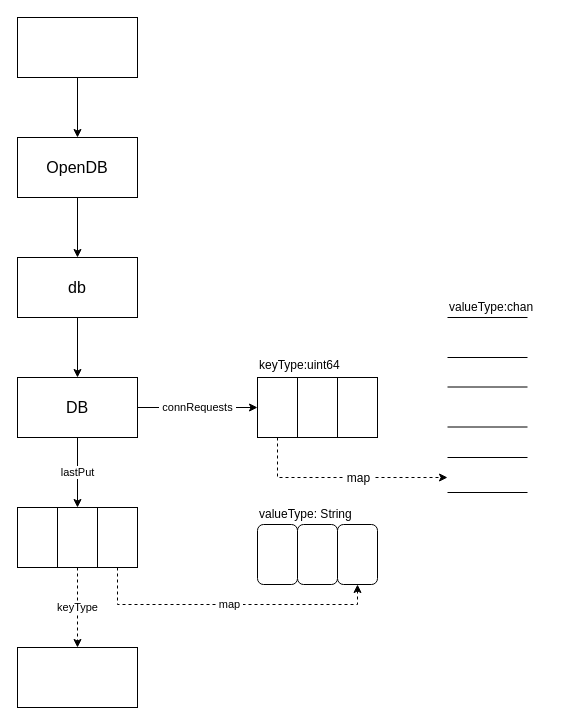
Image size: 565x725. Some labels were removed from this diagram. Each missing label, with the box of its shape:
driverConn: (16, 646, 138, 708)
Open: (16, 16, 138, 78)
